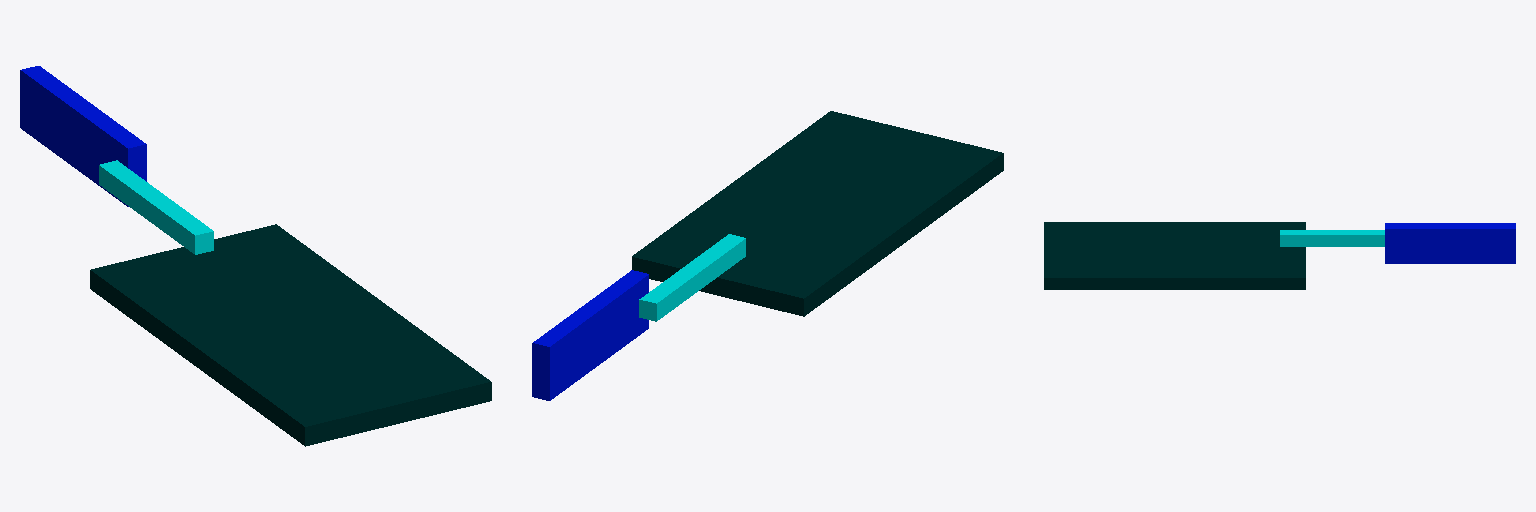
robot.urdf — crawler_robot:
<robot name="crawler_robot">

	<!-- * * * Link Definitions * * * -->

	<link name="base_link">
		<visual>
			<origin xyz="0 0 0.05" rpy="0 0 0" />
			<geometry>
				<box size="1 2 0.1" />
			</geometry>
			<material name="Grey">
				<color rgba="0 0.2 0.2 1.0" />
			</material>
		</visual>
		<inertial>
			<mass value="5" />
			<origin xyz="0 0 0.05" rpy="0 0 0" />
			<inertia ixx="0.4" ixy="0.0" ixz="0.0" iyy="0.4" iyz="0.0" izz="0.2" />
		</inertial>
		<collision>
			<origin xyz="0 0 0.05" rpy="0 0 0" />
			<geometry>
				<box size="0.5 0.5 0.1" />
			</geometry>
		</collision>
	</link>

	<gazebo reference="base_link">
		<mu1>0.02</mu1>
		<mu2>0.02</mu2>
		<material>Gazebo/Blue</material>
	</gazebo>


	<link name="leg1">
		<visual>
			<origin xyz="0 0.45 0.0" rpy="0 0 0" />
			<geometry>
				<box size="0.1 0.9 0.1" />
			</geometry>
			<material name="Cyan1">
				<color rgba="0 0.9 0.9 1.0" />
			</material>
		</visual>
		<inertial>
			<origin xyz="0 0.45 0.0" rpy="0 0 0" />
			<mass value="0.2" />
			<inertia ixx="0.1" ixy="0.0" ixz="0.0" iyy="0.1" iyz="0.0" izz="0.1" />
		</inertial>
		<collision>

			<origin xyz="0 0.45 0.0" rpy="0 0 0" />
			<geometry>
				<box size="0.1 0.9 0.1" />
			</geometry>
		</collision>
	</link>

	<link name="leg2">
		<visual>
			<origin xyz="0 0.5 0.0" rpy="0 0 0" />
			<geometry>
				<box size="0.1 1 0.3" />
			</geometry>
			<material name="blue">
				<color rgba="0 0.1 0.9 1.0" />
			</material>
		</visual>
		<inertial>
			<origin xyz="0 0.25 0.0" rpy="0 0 0" />
			<mass value="0.2" />
			<inertia ixx="0.1" ixy="0.0" ixz="0.0" iyy="0.1" iyz="0.0" izz="0.1" />
		</inertial>
		<collision>
			<origin xyz="0 0.5 0.0" rpy="0 0 0" />
			<geometry>
				<box size="0.1 1 0.3" />
			</geometry>
		</collision>
	</link>

	<gazebo reference="leg2">
		<mu1>0.2</mu1>
		<mu2>0.2</mu2>
		<material>Gazebo/Black</material>
	</gazebo>


	<joint name="leg1joint" type="revolute">
		<parent link="base_link" />
		<child link="leg1" />
		<limit effort="10000" lower="0.0" upper="1.57" velocity="0.5" />
		<axis xyz="1 0 0" />
		<origin xyz="0 0.8 0.2" />
		<dynamics damping="0.2" />
	</joint>

	<joint name="leg2joint" type="revolute">
		<parent link="leg1" />
		<child link="leg2" />
		<limit effort="10000" lower="-1.57" upper="0.0" velocity="0.5" />
		<axis xyz="1 0 0" />
		<origin xyz="0.1 0.8 0.0" />
		<dynamics damping="0.2" />
	</joint>
</robot> 

--- Facts derived from the render (not from the file) ---
Views: 3 orthographic renders of the robot side by side, from view 1: azimuth 30°, elevation 25°; view 2: azimuth 150°, elevation 25°; view 3: azimuth 270°, elevation 25°.
Robot: crawler_robot — 3 links, 2 joints (2 revolute); root link base_link; default pose: all joints at 0.
Visible links, largest first — view 1: base_link, leg2, leg1; view 2: base_link, leg2, leg1; view 3: base_link, leg2, leg1.
Boxes of the visible links, box(x1,y1,x2,y2) form: base_link: box(90, 224, 491, 446); leg2: box(20, 66, 146, 206); leg1: box(99, 160, 213, 254); base_link: box(632, 111, 1003, 316); leg2: box(532, 270, 648, 400); leg1: box(639, 234, 745, 321); base_link: box(1044, 222, 1305, 289); leg2: box(1385, 223, 1515, 263); leg1: box(1280, 230, 1384, 246).
Size in the robot's own frame: 1 by 3.6 by 0.35 metres.
Geometry: primitives only (box / cylinder / sphere), no mesh files.
